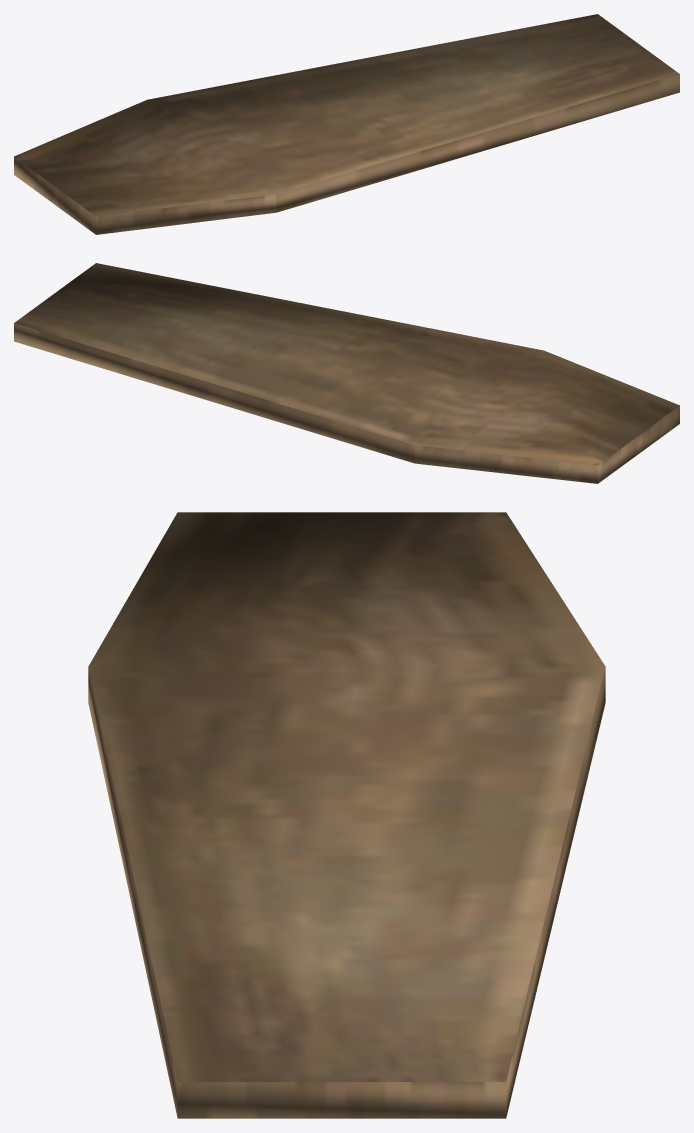
The model's file is coffinlid.obj.
3 views of the same model, one above another, from view 1: azimuth 30°, elevation 25°; view 2: azimuth 150°, elevation 25°; view 3: azimuth 270°, elevation 25° (orthographic). The views are drawn at different scales.
Visible parts, largest first — view 1: coffinlid; view 2: coffinlid; view 3: coffinlid.
Part boxes in pixels (x1,y1,x2,y2): coffinlid: (14, 14, 679, 234); coffinlid: (14, 263, 679, 483); coffinlid: (88, 512, 605, 1118).
Size of the model in its own units: 2.77 by 0.0833 by 1.06.
1 material, 1 textured.
